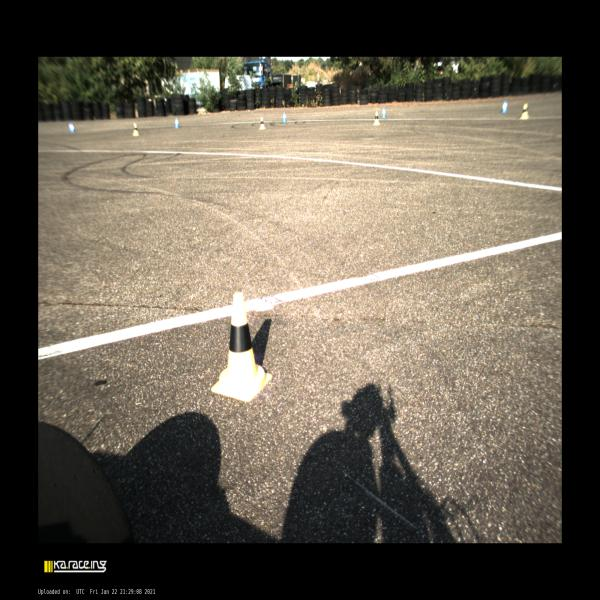blue_cone: (501, 100, 507, 112), (381, 107, 387, 118), (282, 112, 287, 122), (174, 118, 179, 128), (71, 123, 75, 132)
yellow_cone: (211, 293, 272, 401), (520, 103, 528, 120), (373, 111, 380, 125), (133, 123, 139, 136), (259, 117, 265, 129)
